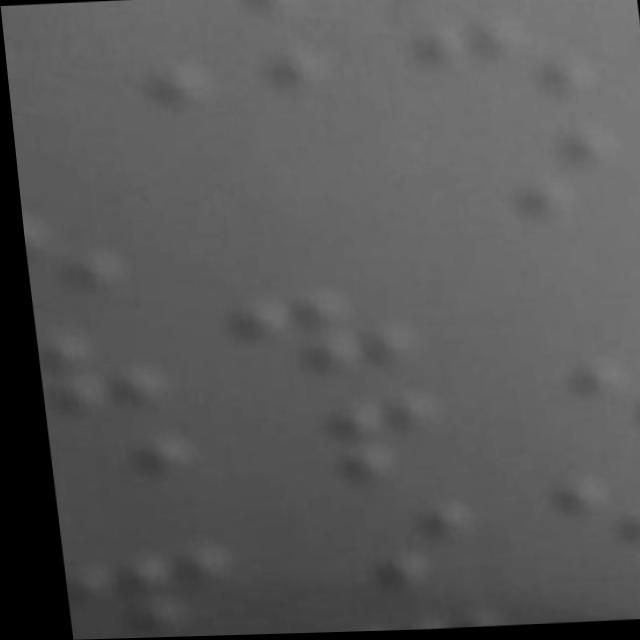braiile: (143, 54, 345, 159), (256, 404, 454, 510), (285, 514, 479, 615), (421, 134, 620, 232), (402, 20, 600, 114), (223, 298, 413, 395), (50, 542, 234, 640), (39, 439, 199, 532), (493, 357, 640, 458), (505, 467, 640, 565)
